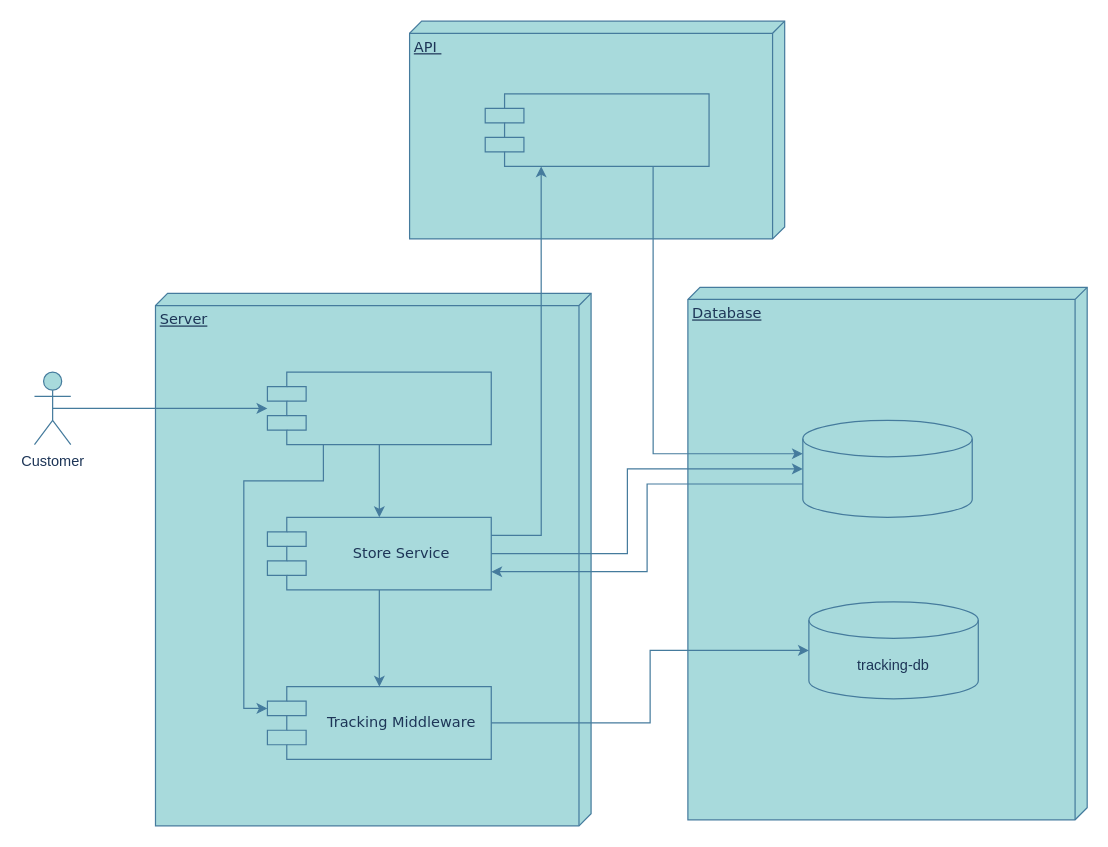
The diagram is 1108 pixels wide and 847 high, and some of its shapes have lost their labels. Each missing label, with the centre of its shape:
"Authentication Service" goes at (x=378, y=408).
"Geolocation Service" goes at (x=596, y=129).
"stores-db" goes at (x=887, y=468).
